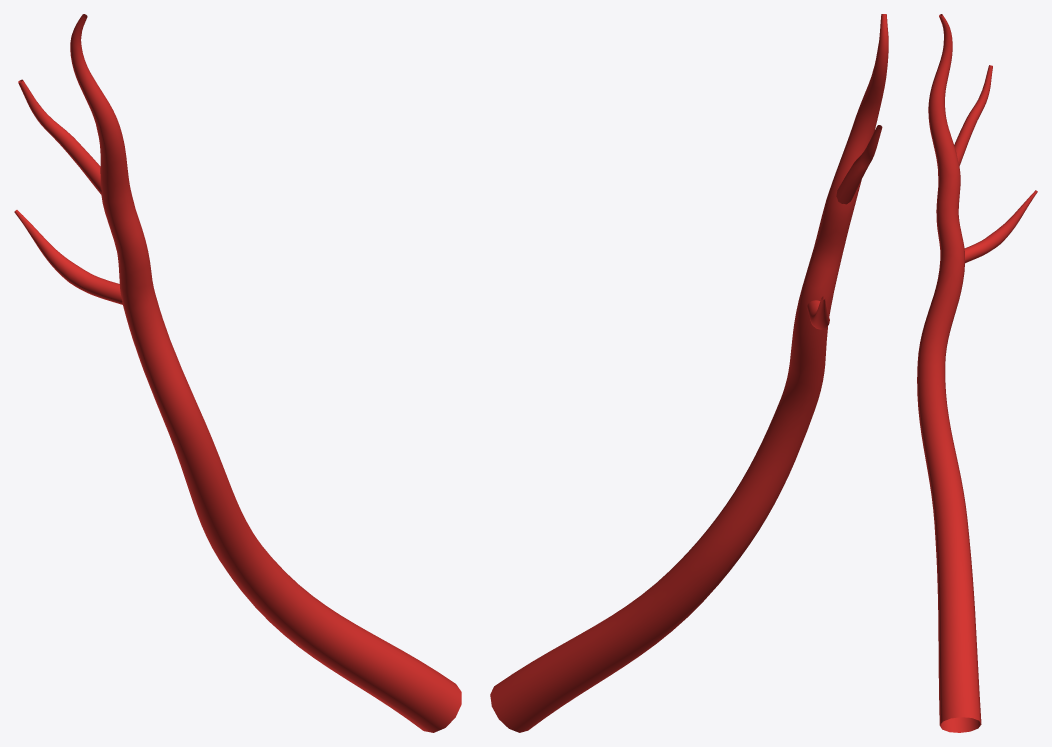
Rendered from circulatorio-posterior-deep-temporal-artery-r.glb.
3 renders of one model, left to right at view 1: azimuth 30°, elevation 25°; view 2: azimuth 150°, elevation 25°; view 3: azimuth 270°, elevation 25°, orthographic. The views are drawn at different scales.
Parts seen in each view (by area): view 1: Posterior deep temporal artery.r; view 2: Posterior deep temporal artery.r; view 3: Posterior deep temporal artery.r.
Boxes of the visible parts, <box> form: Posterior deep temporal artery.r: <box>14,14,461,732</box>; Posterior deep temporal artery.r: <box>490,14,888,732</box>; Posterior deep temporal artery.r: <box>917,14,1037,732</box>.
Size of the model in its own units: 0.0253 by 0.0469 by 0.00867.
